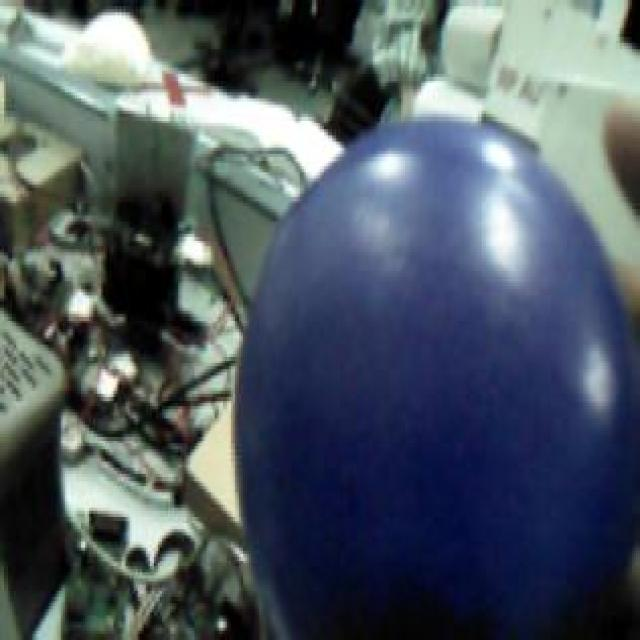BallPurple: (234, 119, 639, 640)
